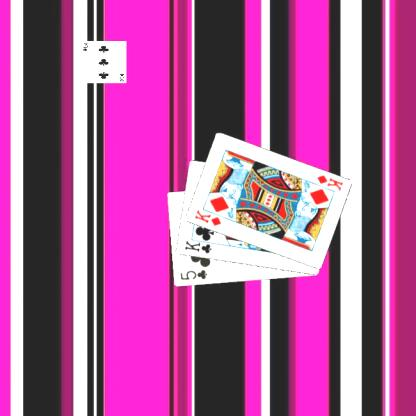5C: (177, 267, 208, 281)
KC: (182, 236, 216, 255)
KD: (191, 207, 223, 227), (314, 172, 344, 192)
